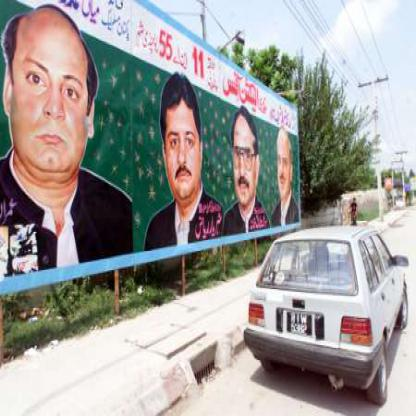face: (11, 13, 96, 182), (166, 81, 203, 203), (233, 112, 259, 206), (279, 133, 292, 201)
